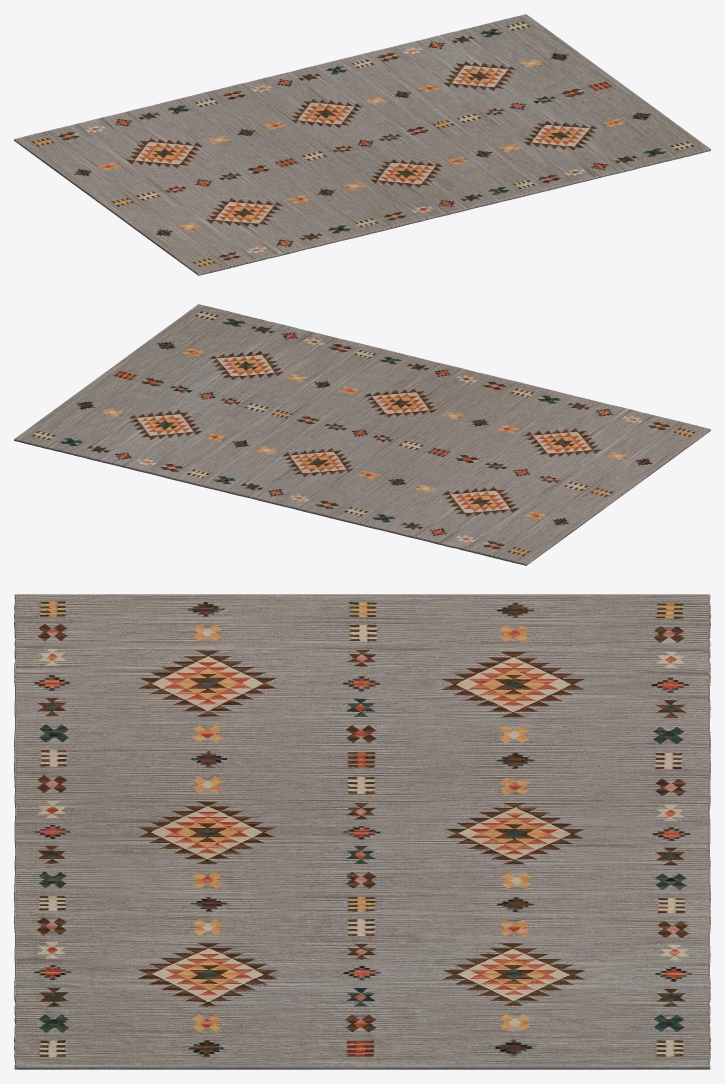
The model's file is abo-B07B51BJPT.glb.
3 views of the same model, one above another, from view 1: azimuth 30°, elevation 25°; view 2: azimuth 150°, elevation 25°; view 3: azimuth 270°, elevation 25° (orthographic). The views are drawn at different scales.
Bounding box in the file's own units: 2.43 × 0.0101 × 1.52.
Materials: 1 (1 with a texture image).
